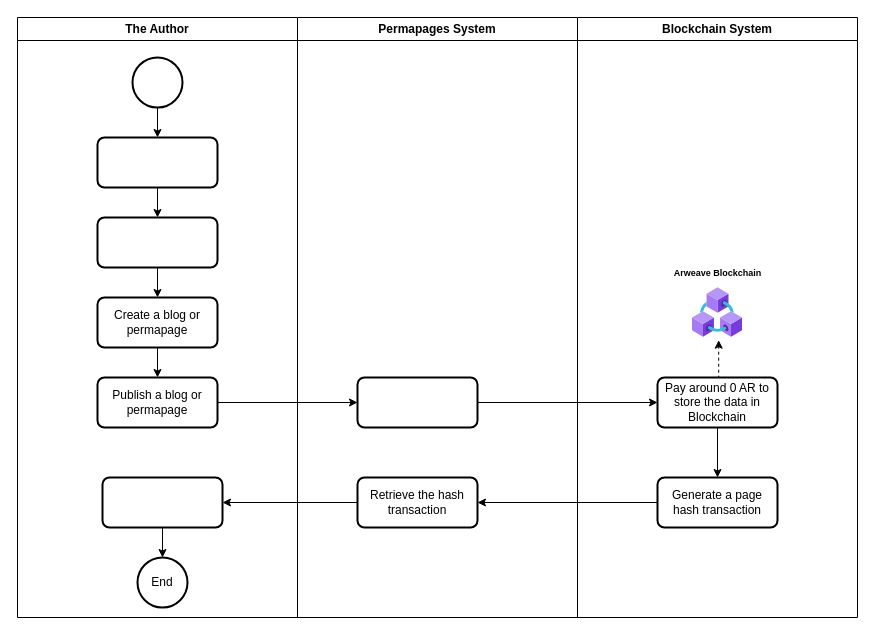
This 875x635 diagram has some shape labels left out. The shapes that lost their labels are listed below. From the top down, each one's centre as x and y in pixels, then its label:
At (x=157, y=82): "Start".
At (x=157, y=162): "The author open the platform".
At (x=157, y=242): "Login with ArConnect".
At (x=417, y=402): "Store the blog or permapage".
At (x=162, y=502): "View the blog or permapage".
